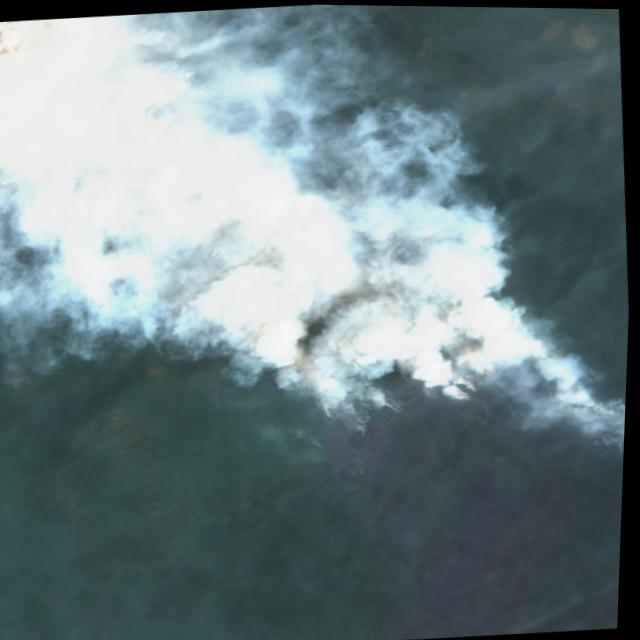fire: (0, 0, 640, 489)
